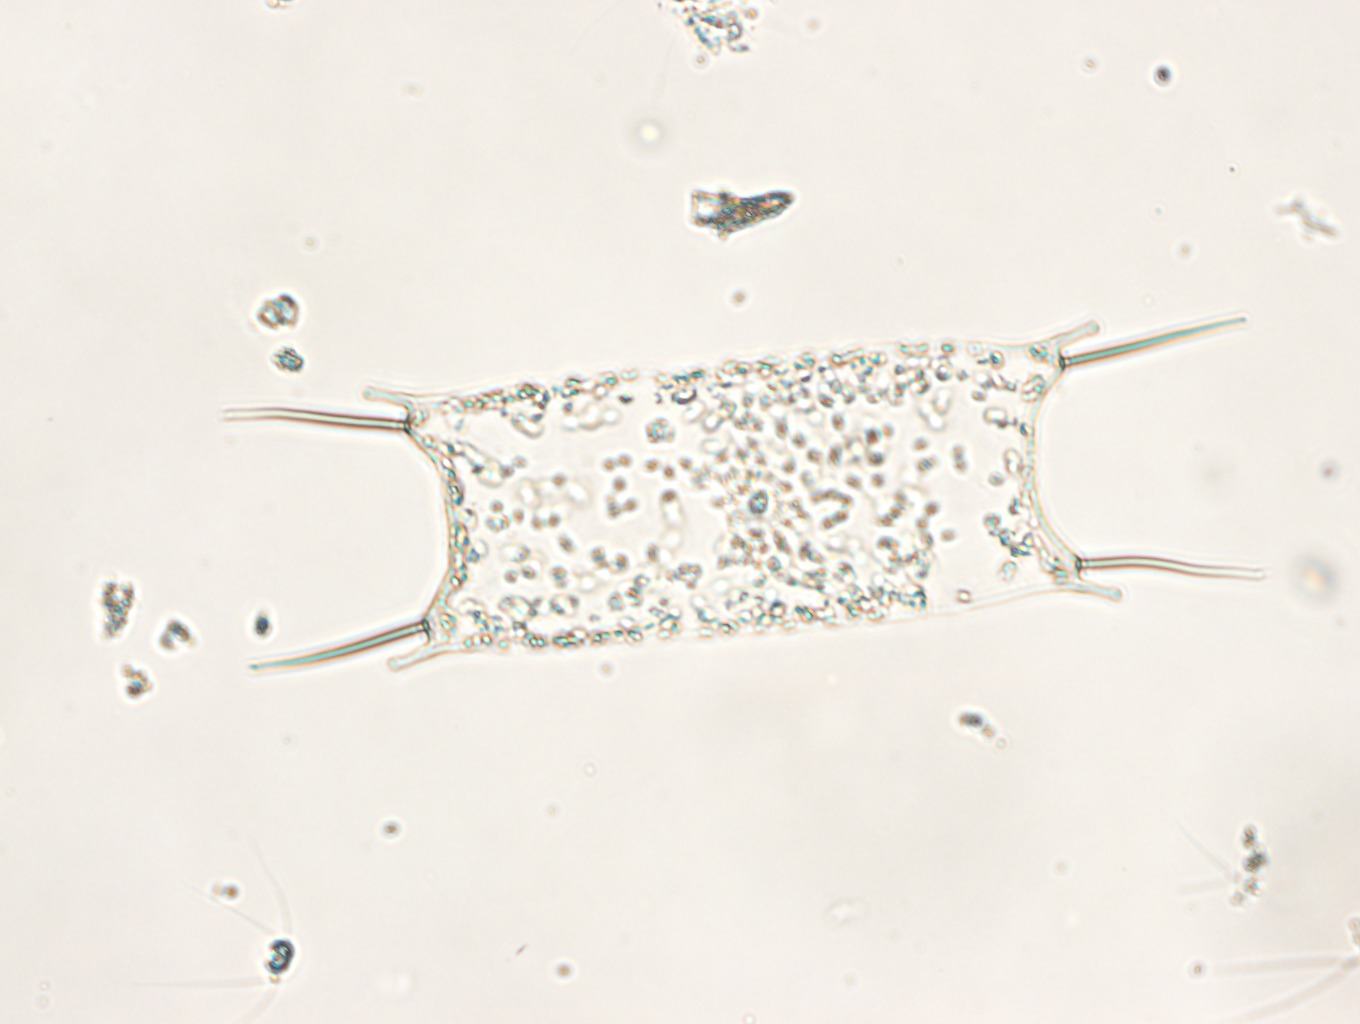biddulphia: (227, 313, 1259, 673)
